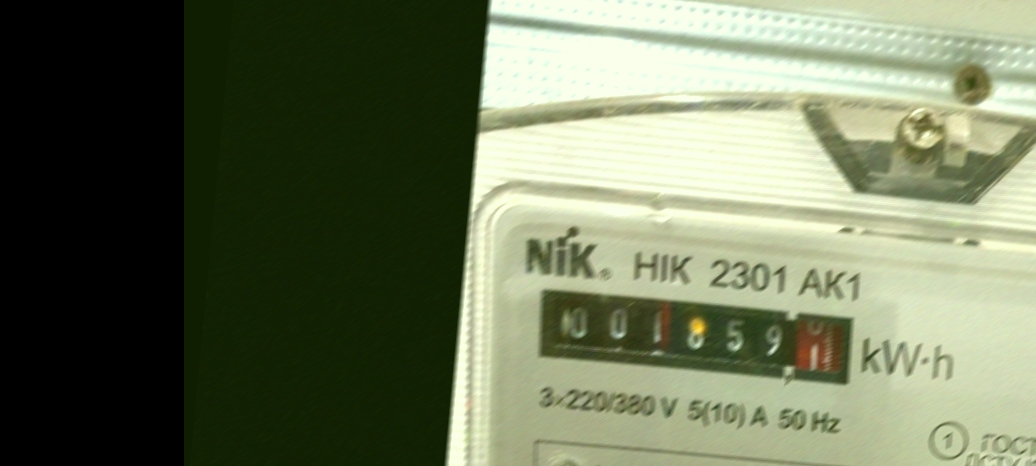0: (568, 303, 591, 340), (608, 304, 630, 339)
1: (651, 307, 666, 343), (807, 339, 822, 371)
5: (724, 315, 748, 352)
8: (686, 313, 708, 350)
9: (763, 320, 785, 356)
screen: (525, 275, 867, 395)
